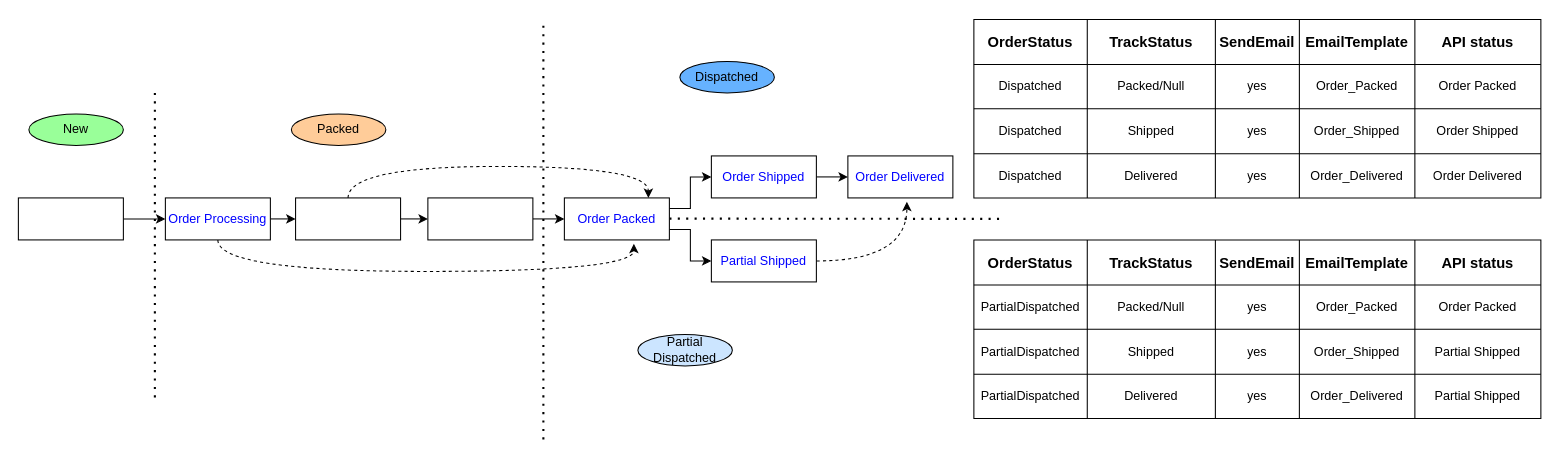
Some shapes in this 1559 by 459 pixel diagram are drawn without their labels. Here are the shapes that lost their labels. From the top down, the centre of each, then its label:
(70,218): Order Received
(348,218): Confirming Compatibility
(480,218): Confirming Availability
